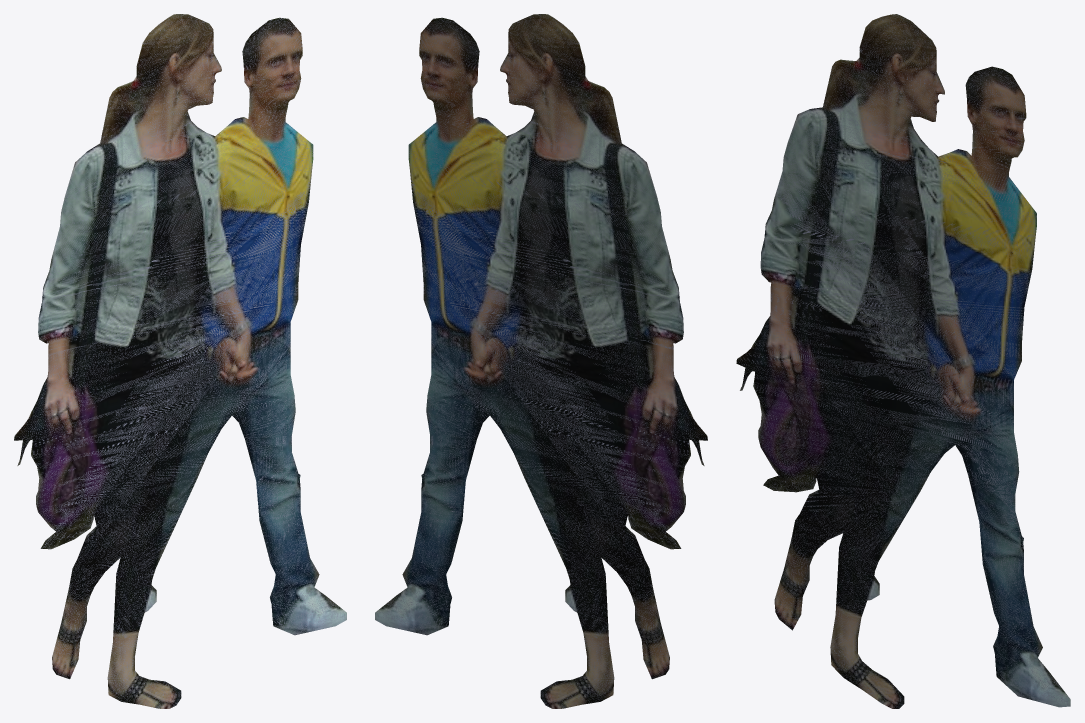
3 renders of one model, left to right at view 1: azimuth 30°, elevation 25°; view 2: azimuth 150°, elevation 25°; view 3: azimuth 330°, elevation 25°, orthographic.
Visible parts, largest first — view 1: SketchUp; view 2: SketchUp; view 3: SketchUp.
Part boxes in pixels (<box>): SketchUp: <box>14,14,346,708</box>; SketchUp: <box>375,14,707,708</box>; SketchUp: <box>736,14,1070,708</box>.
Size of the model in its own units: 25.09 by 2.84e-14 by 49.94.
2 materials, 1 textured.
